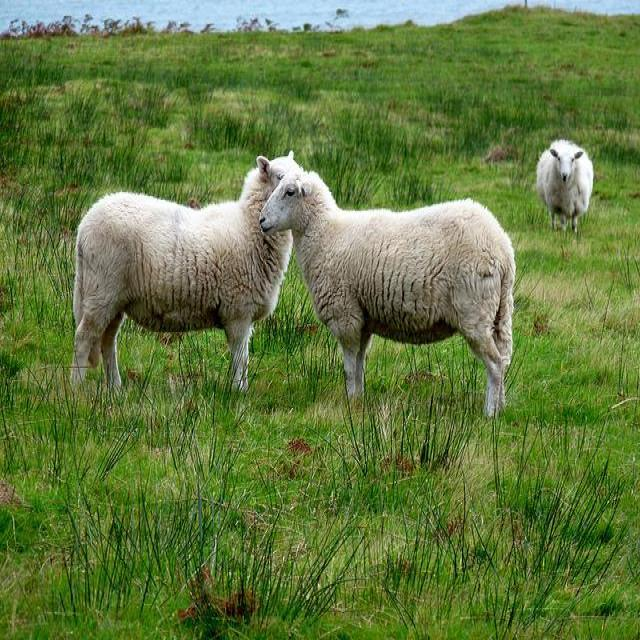Sheep: (260, 169, 516, 419), (68, 148, 304, 393), (536, 140, 595, 233)
